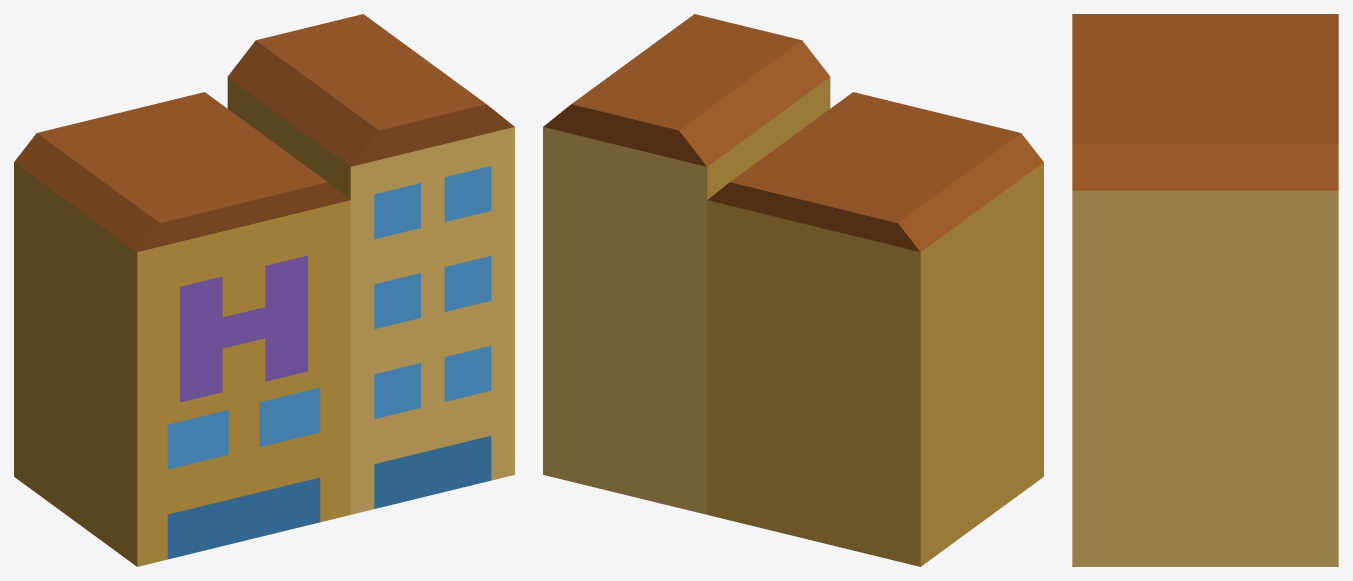
File: accommodation_and_food_services.gltf
The picture shows the model from 3 angles, left to right: view 1: azimuth 30°, elevation 25°; view 2: azimuth 150°, elevation 25°; view 3: azimuth 270°, elevation 25°; orthographic projection. The views are drawn at different scales.
Visible parts, largest first — view 1: Accommodation and Food Services; view 2: Accommodation and Food Services; view 3: Accommodation and Food Services.
Part boxes in pixels (box(x1,y1,x2,y2)): Accommodation and Food Services: box(14, 14, 514, 566); Accommodation and Food Services: box(543, 14, 1043, 566); Accommodation and Food Services: box(1072, 14, 1338, 566).
Bounding box in the file's own units: 1.17 × 1.12 × 0.6621.
Materials: 1 (1 with a texture image).
